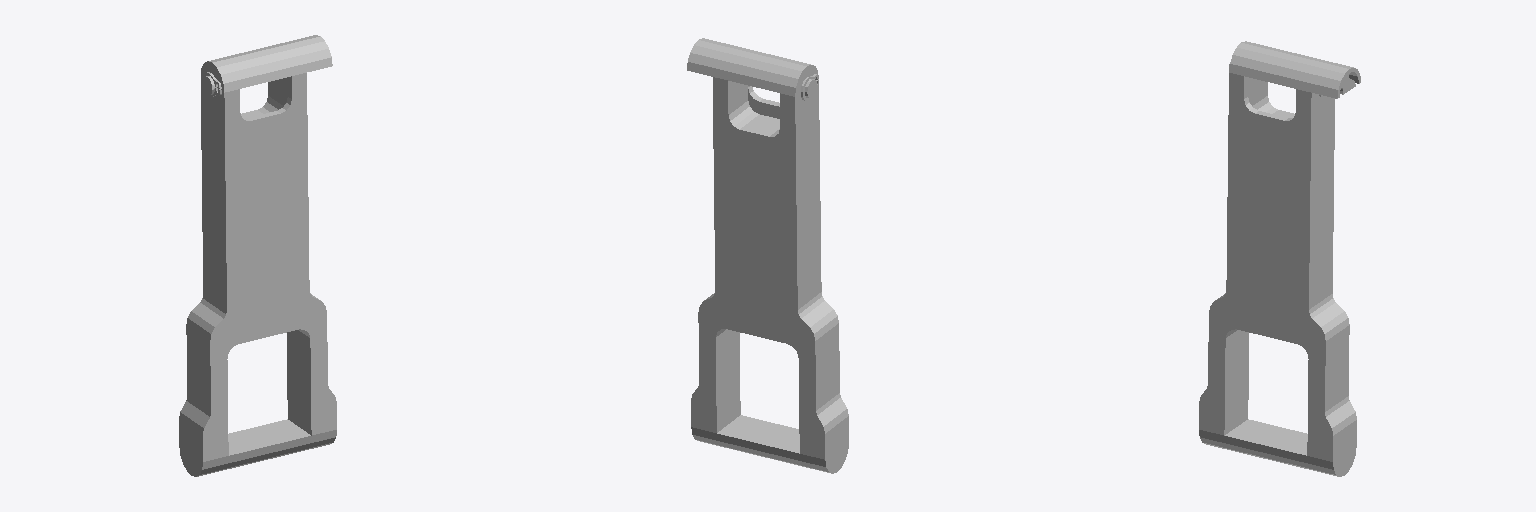
File: right_inner_knuckle_visuals_mesh_0.obj
The picture shows the model from 3 angles: view 1: azimuth 30°, elevation 25°; view 2: azimuth 150°, elevation 25°; view 3: azimuth 330°, elevation 25°; orthographic projection.
Bounding box in the file's own units: 0.039 × 0.112 × 0.0142.